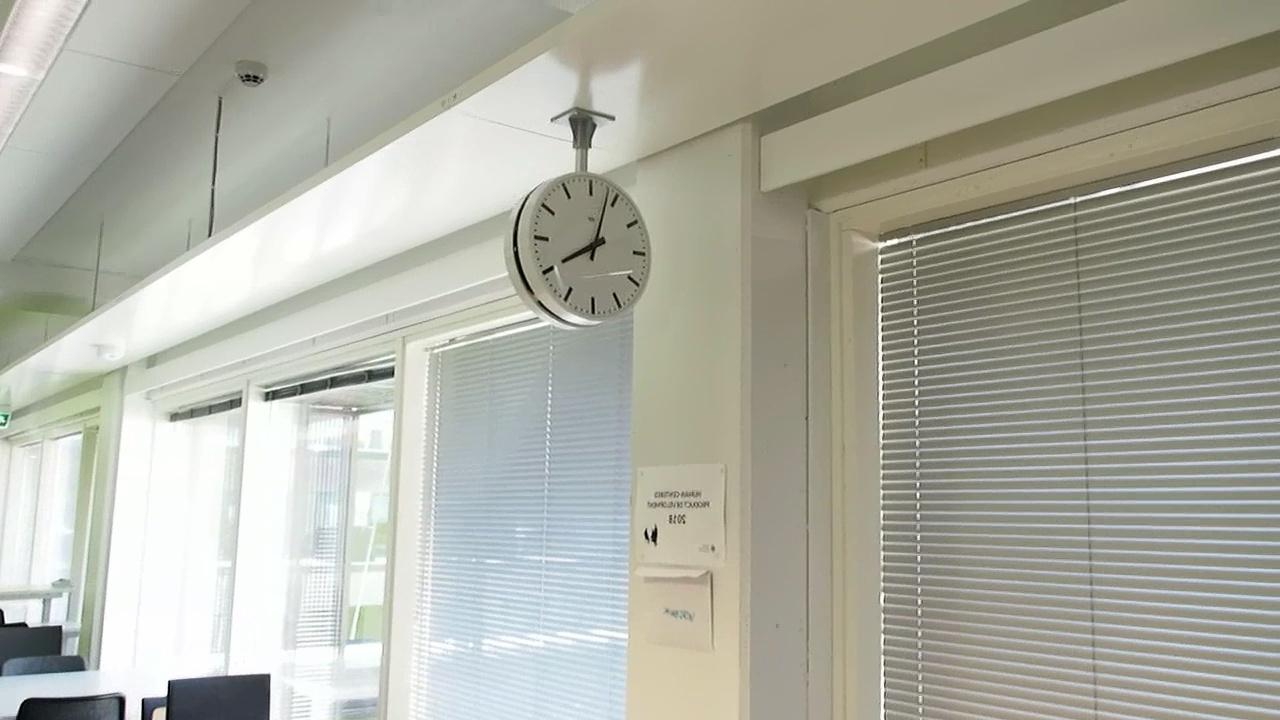clock: (515, 175, 652, 320)
